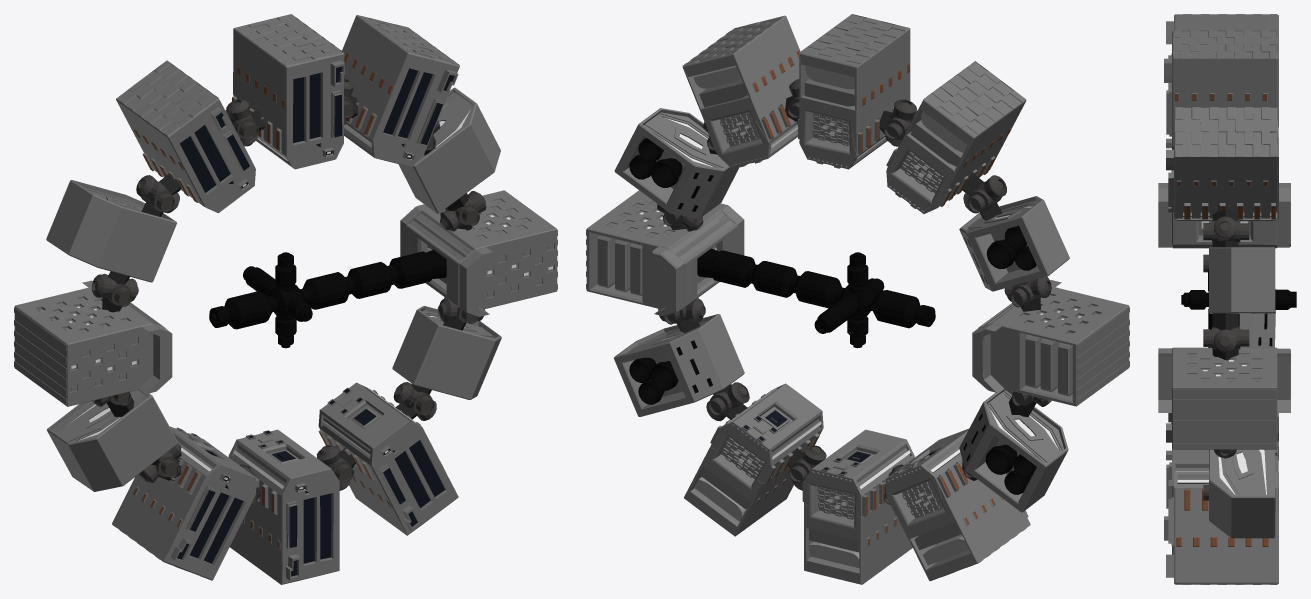
Rendered from EnduranceSpaceship.fbx.
3 renders of one model, left to right at view 1: azimuth 30°, elevation 25°; view 2: azimuth 150°, elevation 25°; view 3: azimuth 270°, elevation 25°, orthographic.
Visible parts, largest first — view 1: 3rd box.001, box 1 .001, box 1, 3rd box, Cube.001, Cube.006, Cube.003, Cube.005, Cylinder.012, 2nd box.003, 2nd box.001, box 2.001 (+9 smaller); view 2: 3rd box.001, box 1 .001, box 1, Cube.001, 3rd box, Cube.003, Cube.005, Cube.006, Cylinder.012, box 2.001, 2nd box, 2nd box.001 (+7 smaller); view 3: 3rd box, Cube.001, box 1 .001, Cube.005, 2nd box, box 2.001, 3rd box.001, Cube.003, box 1, 2nd box.001, spaceship ring, Cylinder.012 (+3 smaller).
Boxes of the visible parts, x1,y1,x2,y2 form: 3rd box.001: (14, 280, 172, 406); box 1 .001: (232, 14, 344, 169); box 1: (228, 429, 339, 584); 3rd box: (400, 190, 557, 316); Cube.001: (342, 15, 459, 166); Cube.006: (112, 426, 256, 580); Cube.003: (116, 60, 255, 213); Cube.005: (318, 382, 458, 535); Cylinder.012: (209, 249, 446, 348); 2nd box.003: (46, 180, 176, 282); 2nd box.001: (47, 389, 177, 491); box 2.001: (398, 87, 500, 213); 3rd box.001: (972, 280, 1129, 406); box 1 .001: (798, 14, 910, 169); box 1: (802, 429, 914, 584); Cube.001: (682, 15, 800, 167); 3rd box: (586, 190, 744, 315); Cube.003: (886, 61, 1026, 213); Cube.005: (684, 383, 823, 536); Cube.006: (886, 428, 1030, 581); Cylinder.012: (697, 248, 935, 348); box 2.001: (614, 108, 739, 218); 2nd box: (613, 314, 744, 416); 2nd box.001: (959, 389, 1068, 512); 3rd box: (1158, 347, 1290, 449); Cube.001: (1166, 107, 1278, 221); box 1 .001: (1164, 30, 1278, 149); Cube.005: (1166, 470, 1278, 584); 2nd box: (1209, 449, 1275, 538); box 2.001: (1209, 247, 1275, 313); 3rd box.001: (1158, 170, 1290, 248); Cube.003: (1166, 14, 1278, 126); box 1: (1164, 441, 1278, 554); 2nd box.001: (1208, 289, 1275, 347); spaceship ring: (1212, 203, 1238, 458); Cylinder.012: (1181, 269, 1296, 347).
Size of the model in its own units: 477 by 480 by 117.
